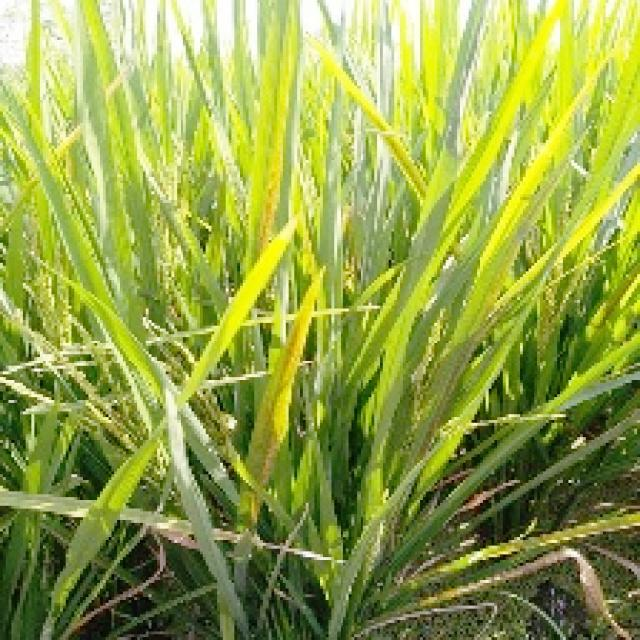-: (327, 1, 640, 417)
